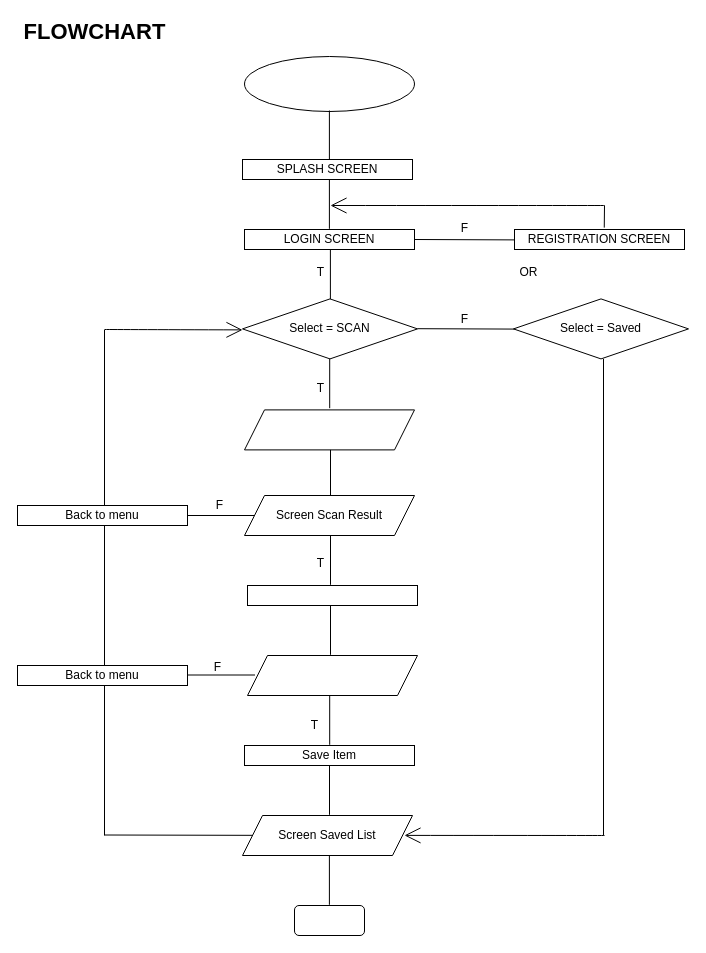
The diagram is 706 pixels wide and 953 high, and some of its shapes have lost their labels. The shapes that lost their labels are listed below. From the top down, each one's centre as x and y in pixels, then its label:
(x=329, y=84): START
(x=329, y=429): Screen Scan
(x=332, y=595): Item List
(x=332, y=675): Screen Item List
(x=329, y=920): END
